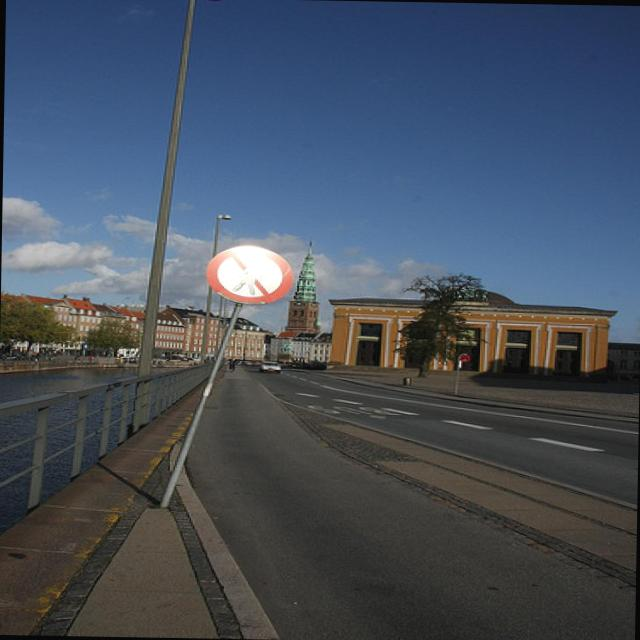Vehicle: (258, 359, 284, 372)
